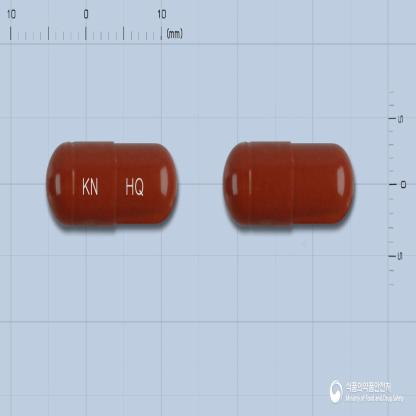pill: (222, 139, 355, 228), (44, 140, 178, 228)
